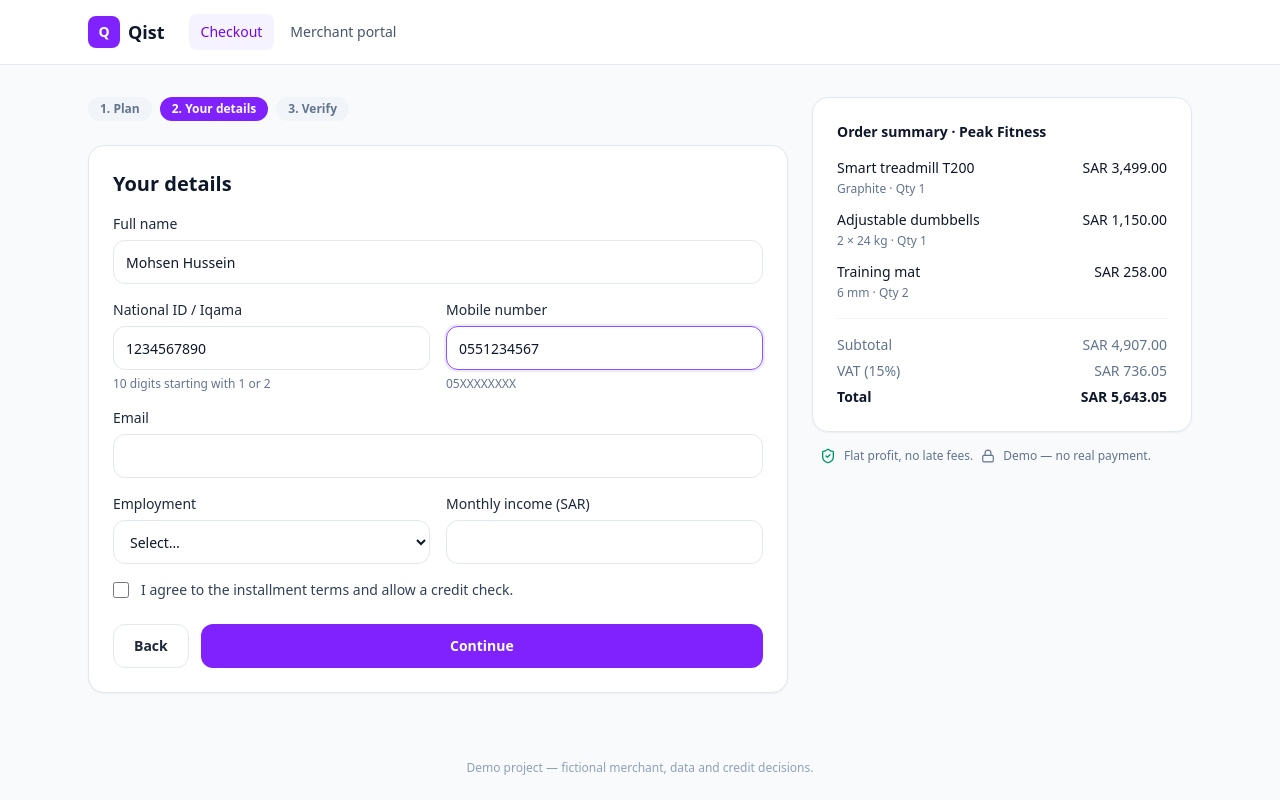
<CheckoutPage /> › completes checkout and records the order
The width and height of the screenshot is (1280, 800).
Earlier steps of the test are not shown.
Later steps or results of the test are not shown.
Type "mohsen@example.com" into the field labelled "Email" at (438, 456), box top-left (113, 434), bottom-right (763, 478)
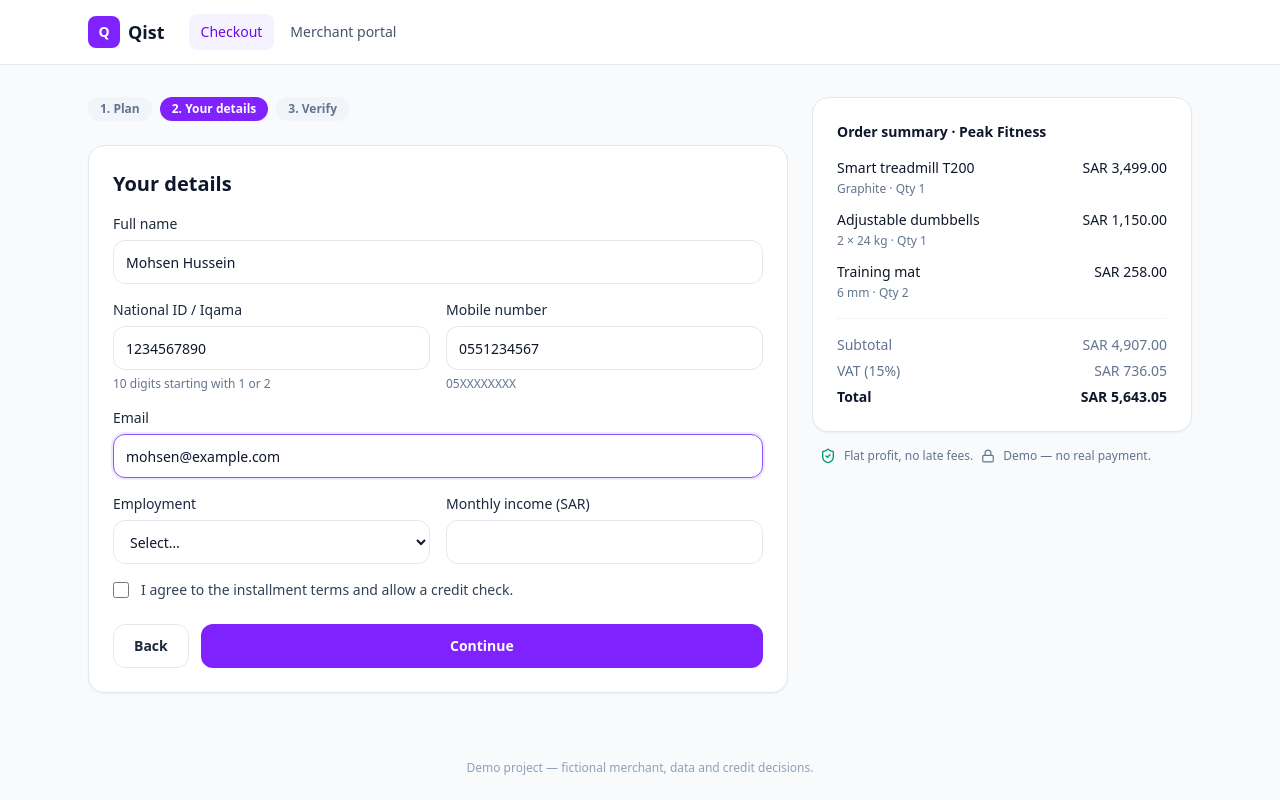
Select "private" in the dropdown labelled "Employment" at (272, 542), box top-left (113, 520), bottom-right (430, 564)
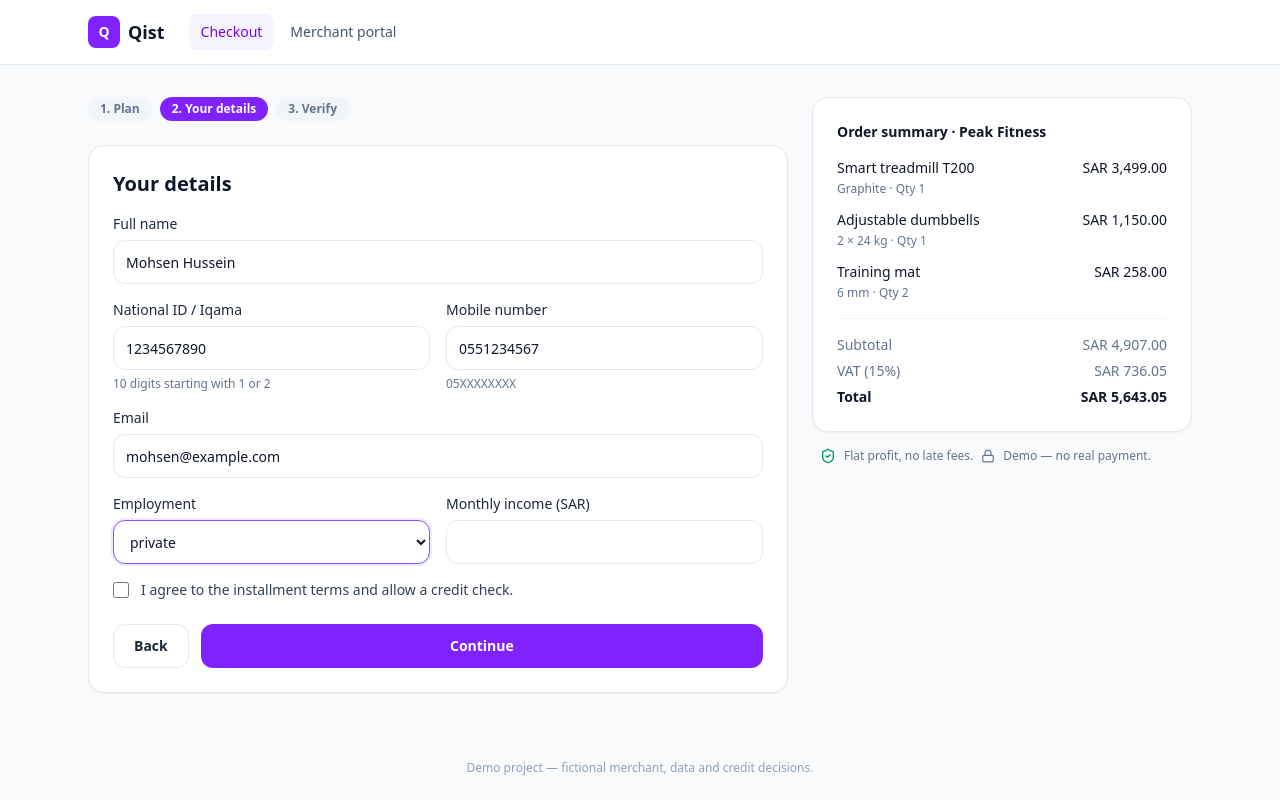
Type "15000" into the number field labelled "Monthly income (SAR)" at (604, 542), box top-left (446, 520), bottom-right (763, 564)
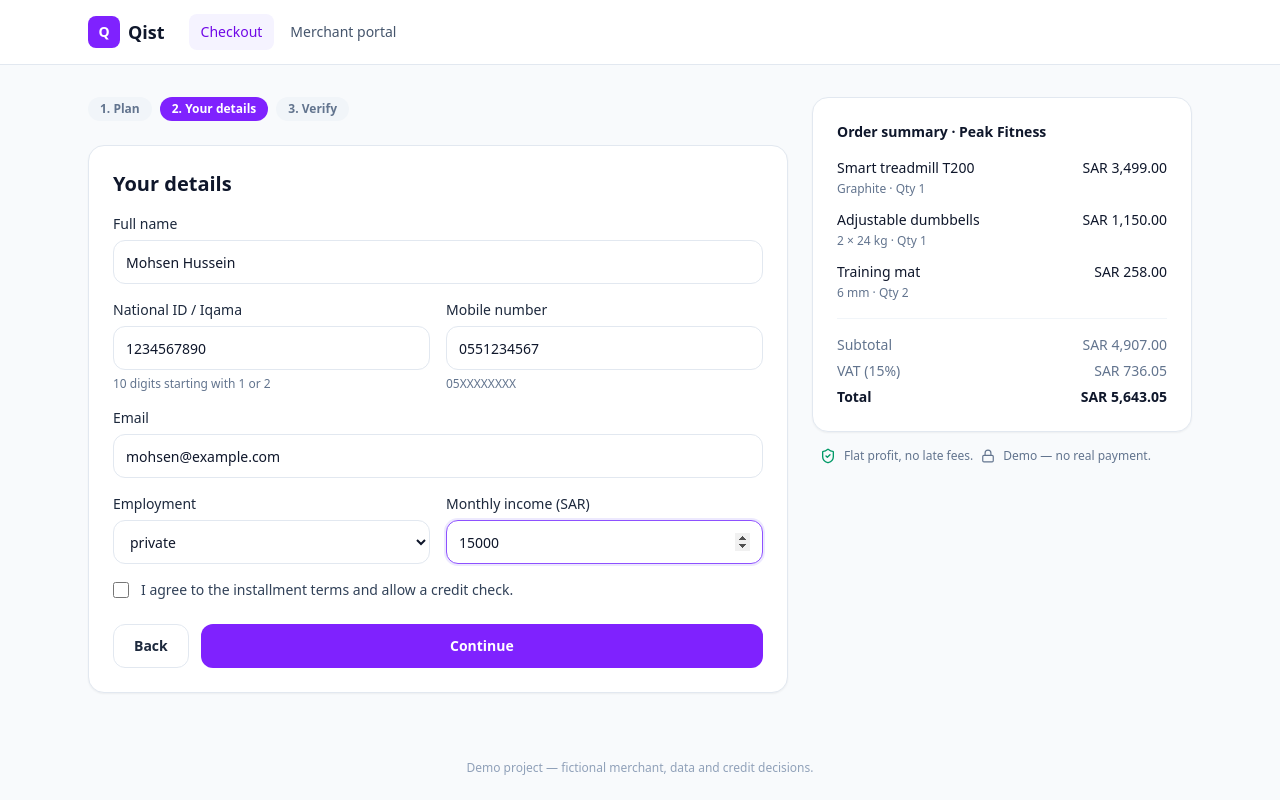
Click the checkbox labelled "I agree to the installment terms and allow a credit check." at (121, 590), box top-left (113, 582), bottom-right (129, 598)
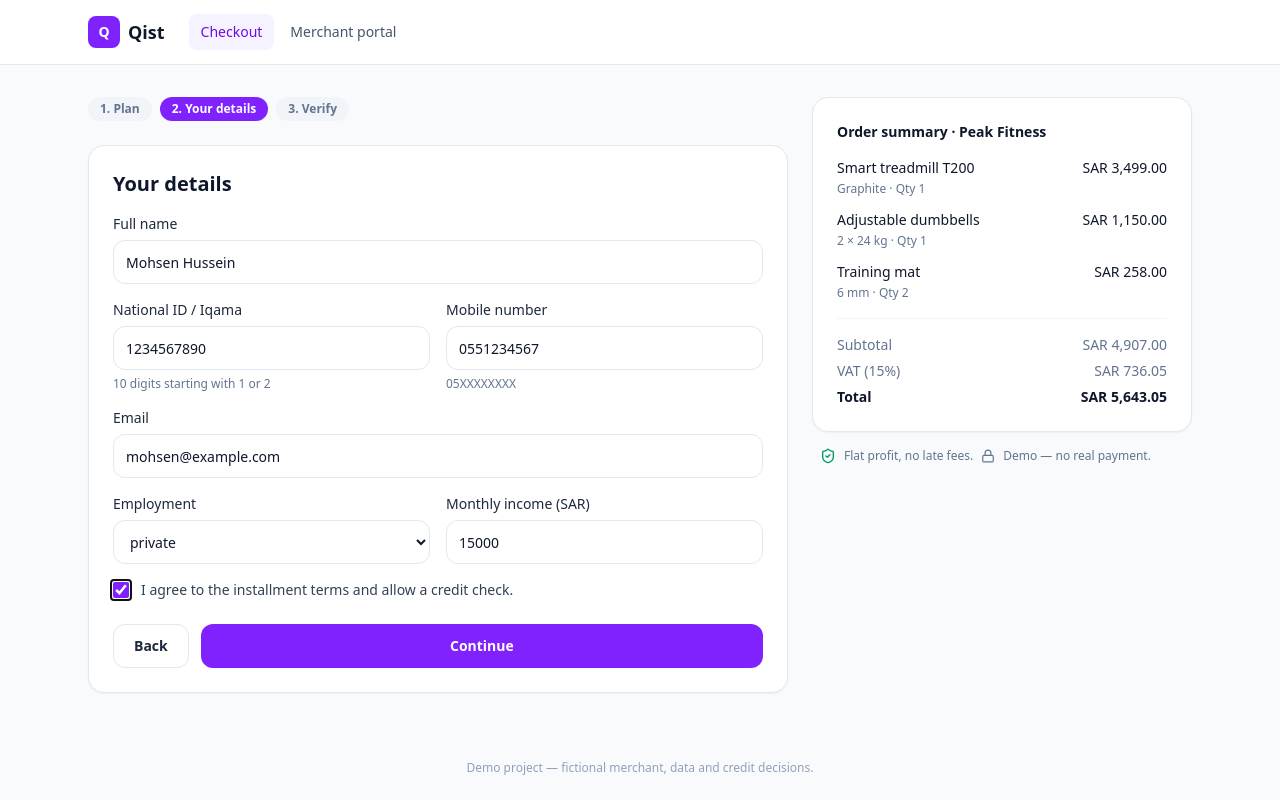
Click the button "Continue" at (482, 646), box top-left (201, 624), bottom-right (763, 668)
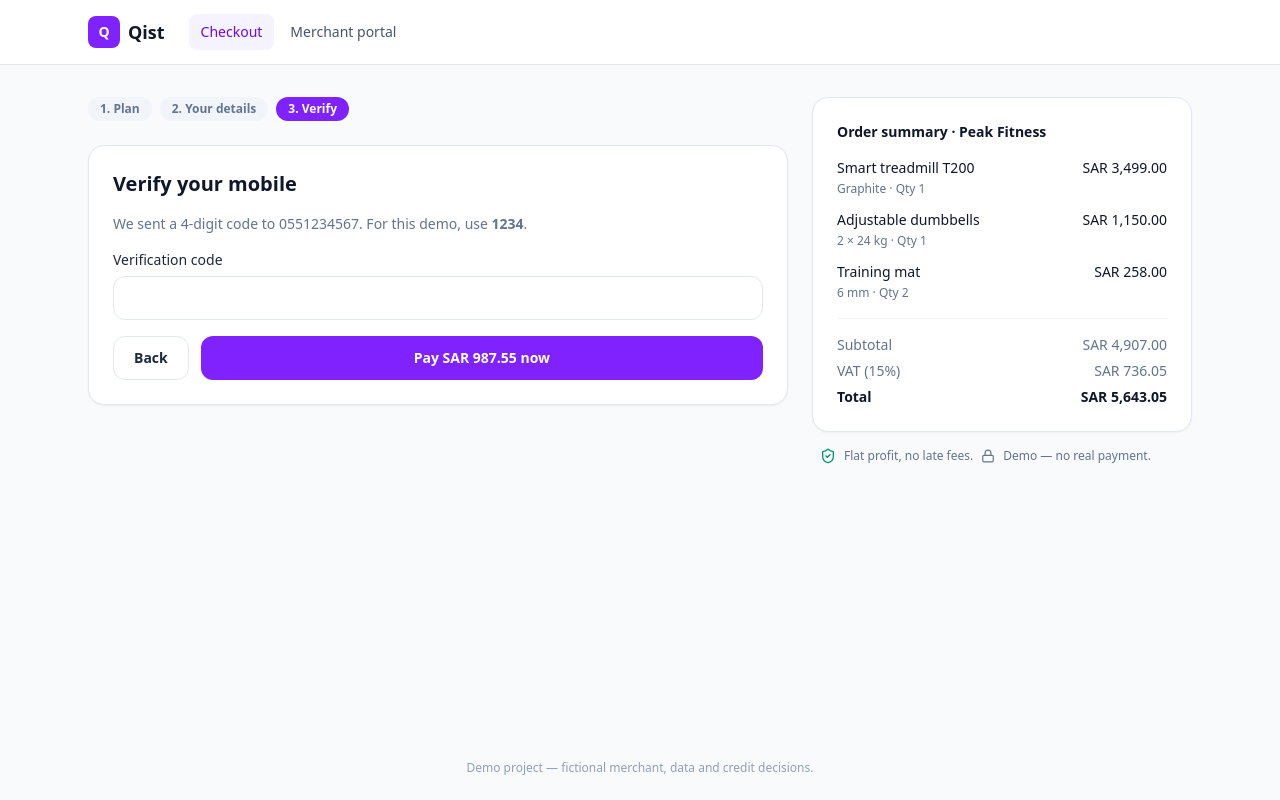
Type "0000" into the field labelled "Verification code" at (438, 298), box top-left (113, 276), bottom-right (763, 320)
Click the button "Pay SAR 987.55 now" at (482, 358), box top-left (201, 336), bottom-right (763, 380)
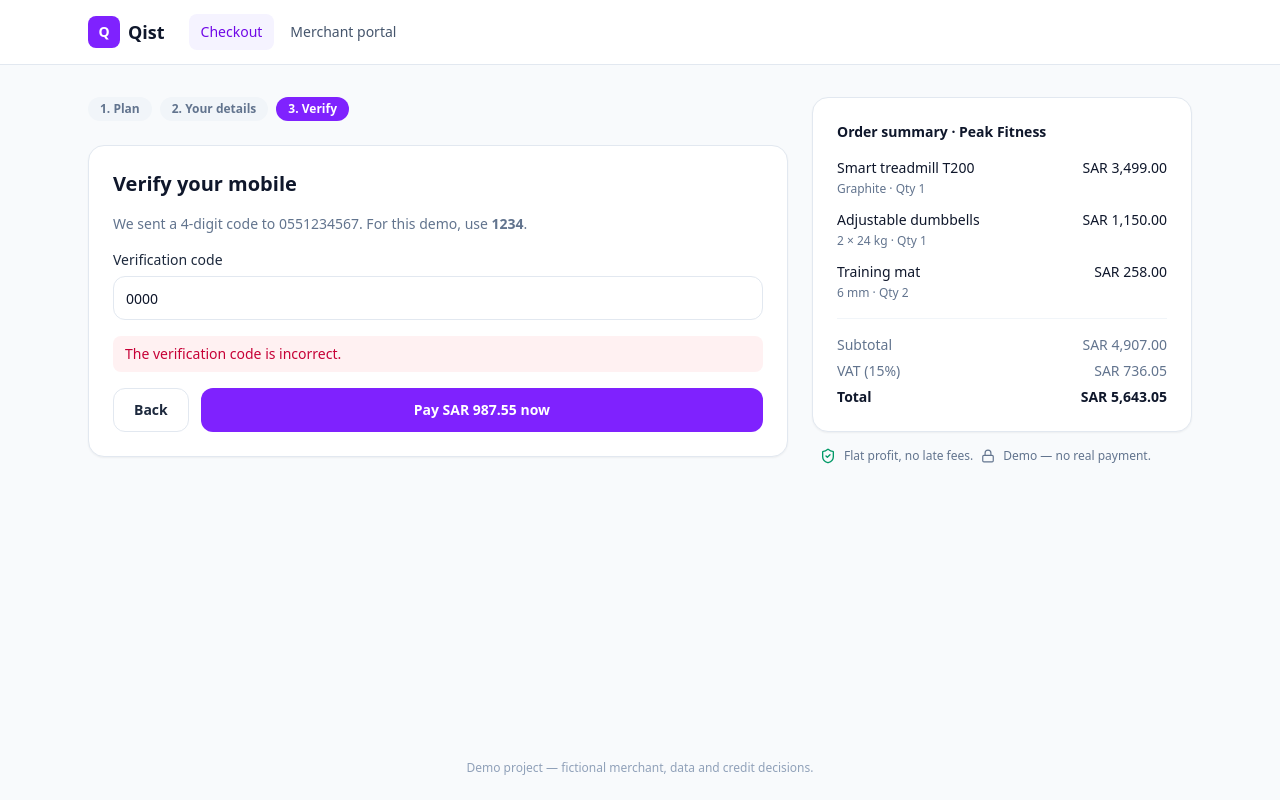
expect the text "The verification code is incorrect." is shown: met, box top-left (113, 336), bottom-right (763, 372)
